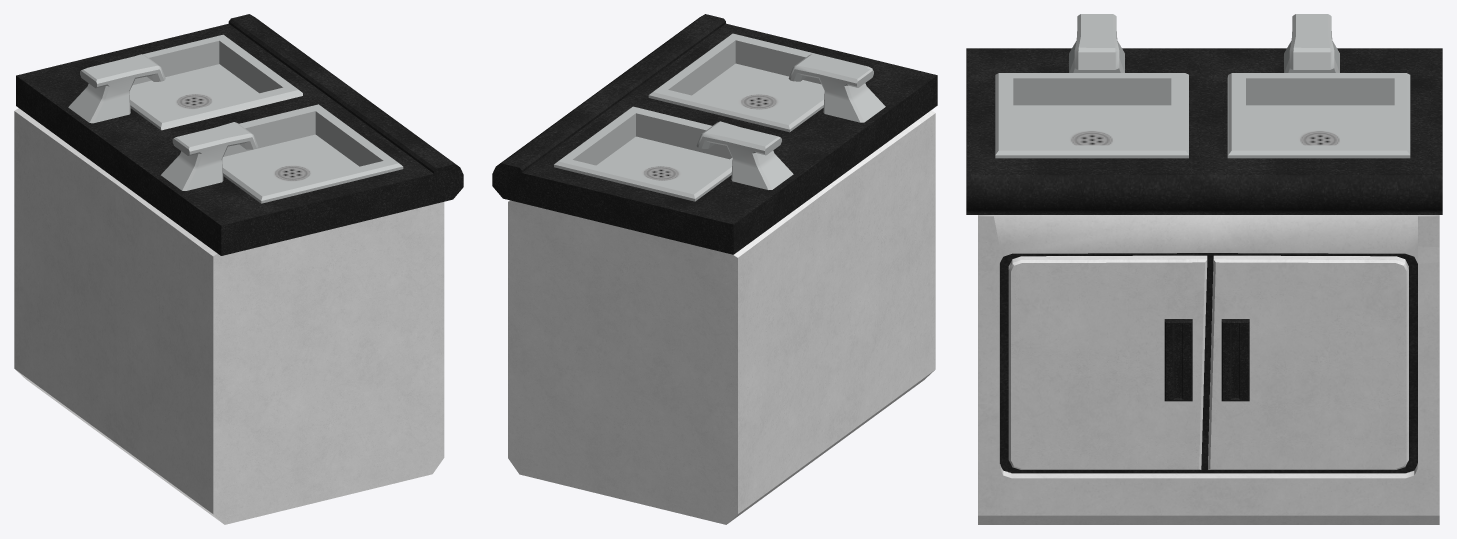
Rendered from CounterSink_geo.fbx.
3 renders of one model, left to right at view 1: azimuth 30°, elevation 25°; view 2: azimuth 150°, elevation 25°; view 3: azimuth 270°, elevation 25°, orthographic. The views are drawn at different scales.
Visible parts, largest first — view 1: Counter_B1, SinkCounterTop, Faucet1, Faucet2; view 2: Counter_B1, SinkCounterTop, Faucet2, Faucet1; view 3: Counter_B1, SinkCounterTop, Faucet1, Faucet2, Handle, Handle1.
Boxes of the visible parts, x1=… form: Counter_B1: x1=14, y1=108, x2=444, y2=524; SinkCounterTop: x1=16, y1=14, x2=463, y2=255; Faucet1: x1=68, y1=54, x2=165, y2=123; Faucet2: x1=161, y1=122, x2=258, y2=190; Counter_B1: x1=508, y1=110, x2=935, y2=524; SinkCounterTop: x1=492, y1=14, x2=937, y2=254; Faucet2: x1=788, y1=54, x2=885, y2=122; Faucet1: x1=696, y1=121, x2=793, y2=189; Counter_B1: x1=978, y1=215, x2=1439, y2=524; SinkCounterTop: x1=966, y1=48, x2=1442, y2=214; Faucet1: x1=1284, y1=14, x2=1339, y2=72; Faucet2: x1=1069, y1=14, x2=1124, y2=72; Handle: x1=1164, y1=319, x2=1192, y2=401; Handle1: x1=1221, y1=319, x2=1249, y2=401.
Bounding box in the file's own units: 83.74 × 112 × 121.
1 material, 1 textured.
